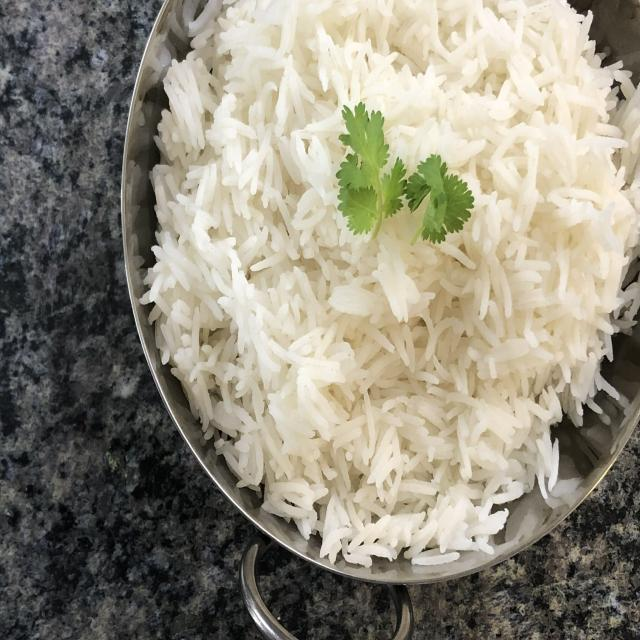rice: (149, 1, 640, 564)
